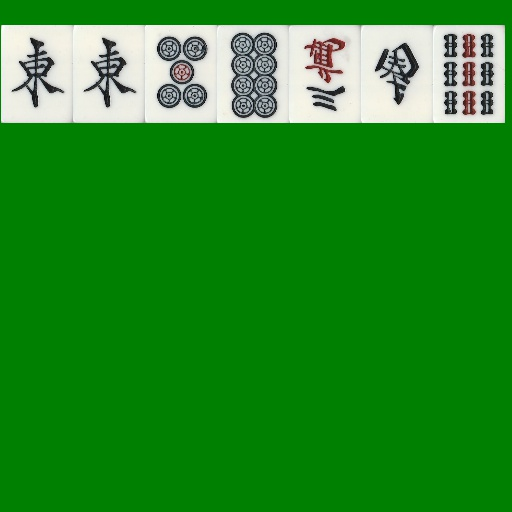3m: (289, 25, 361, 123)
5p: (145, 25, 217, 123)
8p: (217, 25, 289, 123)
9s: (433, 25, 505, 123)
east: (1, 25, 73, 123), (73, 25, 145, 123)
south: (361, 25, 433, 123)
